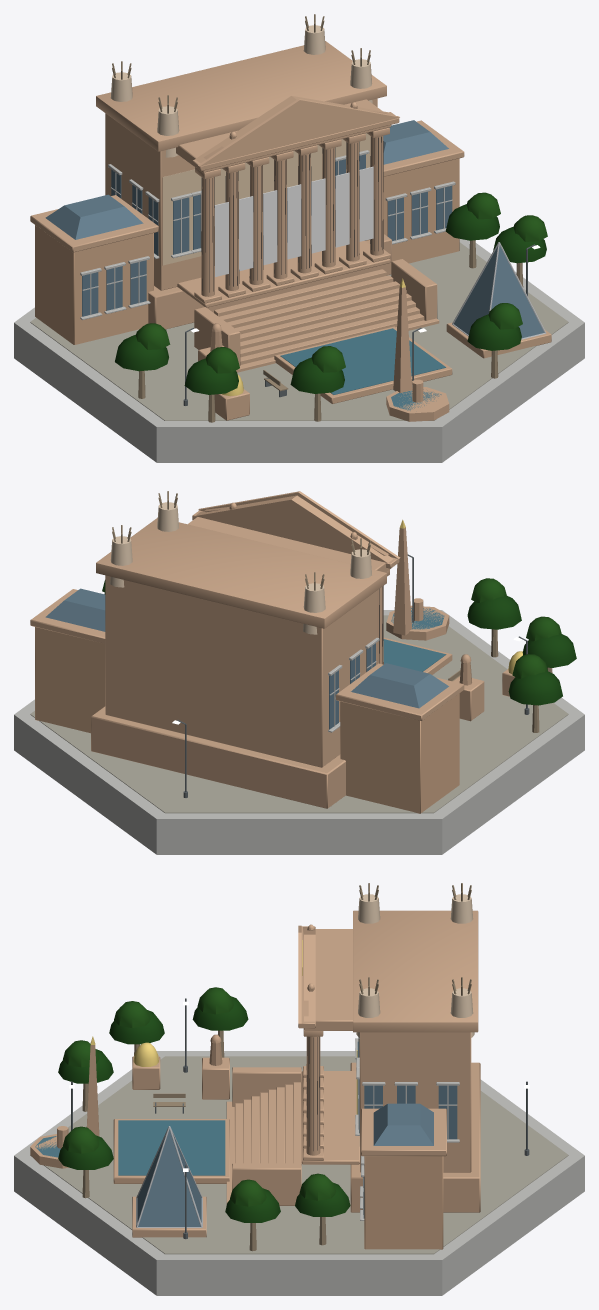
Rendered from museum_africa.glb.
The picture shows the model from 3 angles, top to bottom: view 1: azimuth 30°, elevation 25°; view 2: azimuth 150°, elevation 25°; view 3: azimuth 270°, elevation 25°; orthographic projection.
Parts seen in each view (by area): view 1: stone, wall_concrete, glass, pavers, leaf, banner, plaster, dark, wood, metal; view 2: stone, wall_concrete, pavers, glass, leaf, plaster, wood; view 3: stone, wall_concrete, pavers, glass, leaf, plaster, wood, metal, gold, steel_dark, dark.
Boxes of the visible parts, <box> form: stone: <box>30,41,551,421</box>; wall_concrete: <box>14,150,584,462</box>; glass: <box>45,120,544,410</box>; pavers: <box>30,242,568,420</box>; leaf: <box>115,192,547,394</box>; banner: <box>214,166,373,276</box>; plaster: <box>110,25,372,265</box>; dark: <box>201,136,383,292</box>; wood: <box>112,14,523,422</box>; metal: <box>452,242,545,339</box>; stone: <box>30,491,515,813</box>; wall_concrete: <box>14,610,584,854</box>; pavers: <box>30,615,568,813</box>; glass: <box>45,588,448,729</box>; leaf: <box>102,578,576,705</box>; plaster: <box>110,502,371,634</box>; wood: <box>112,491,552,732</box>; stone: <box>30,910,480,1249</box>; wall_concrete: <box>14,1037,584,1295</box>; pavers: <box>30,1056,568,1254</box>; glass: <box>35,1037,457,1226</box>; leaf: <box>58,987,350,1222</box>; plaster: <box>356,894,474,1146</box>; wood: <box>82,883,471,1251</box>; metal: <box>136,1126,202,1227</box>; gold: <box>90,940,357,1114</box>; steel_dark: <box>71,998,529,1239</box>; dark: <box>307,1037,359,1150</box>.
Bounding box in the file's own units: 21.94 × 12.3 × 24.6.
